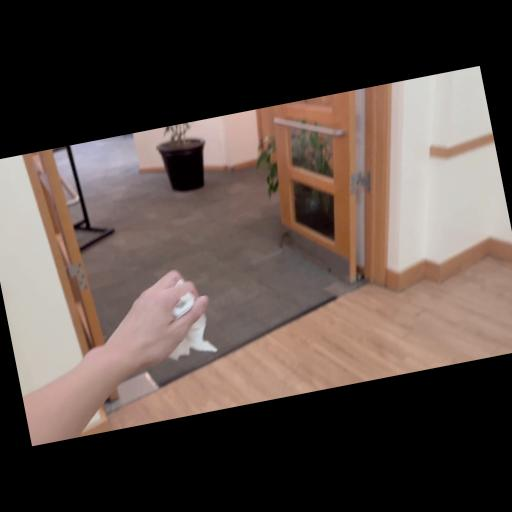napkin: (124, 268, 216, 372)
